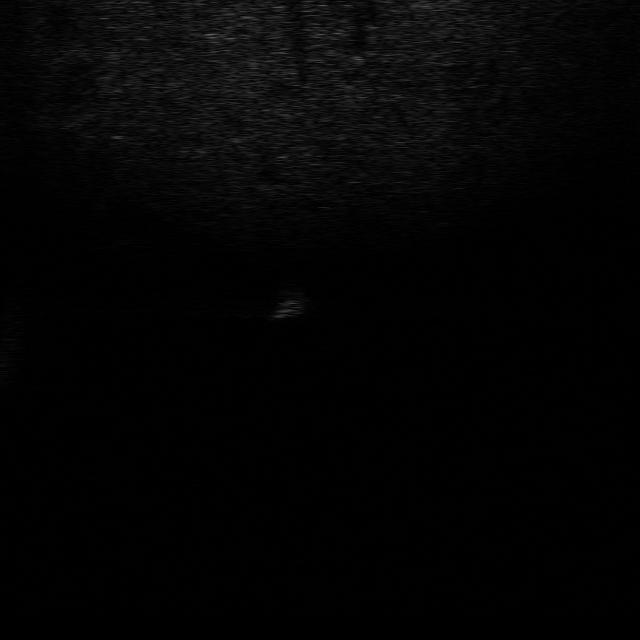human body: (266, 289, 312, 322)
